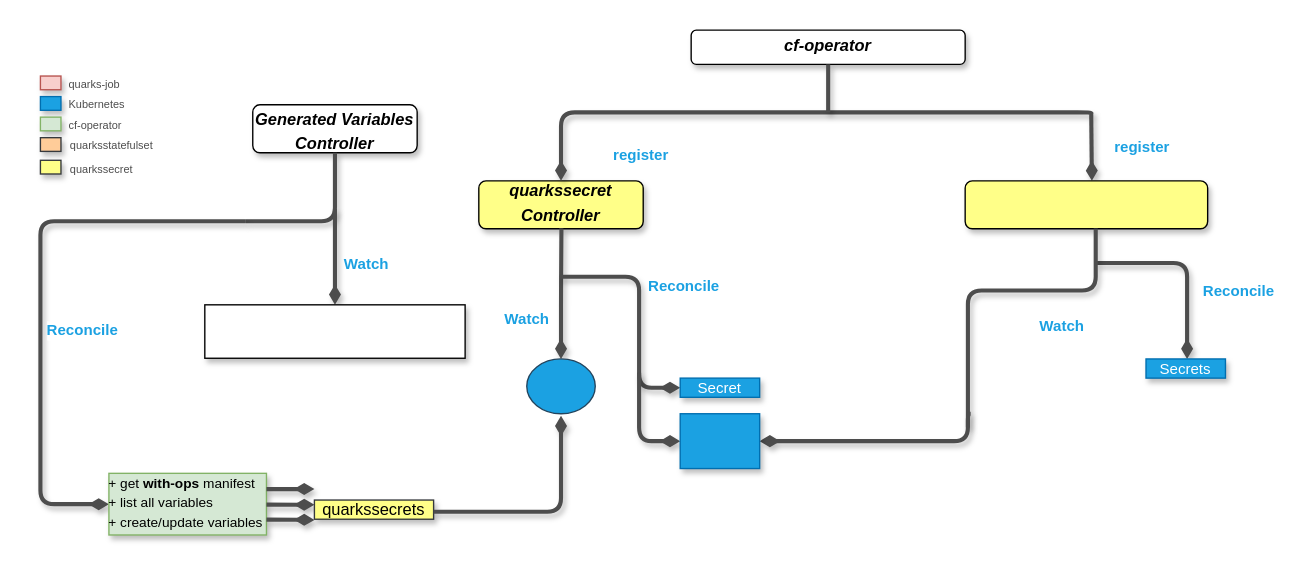
Image size: 1300x569. Some labels were removed from this diagram. The shapes that lost their labels are listed below. From the top down, each one's centre as x and y in pixels, then its label:
At pixel 1087 206: "CertificateSigningRequest Controller".
At pixel 335 333: "Reference + Secrets (Create/Update)".
At pixel 560 386: "QSEC".
At pixel 720 442: "Certificate Signing Request".
